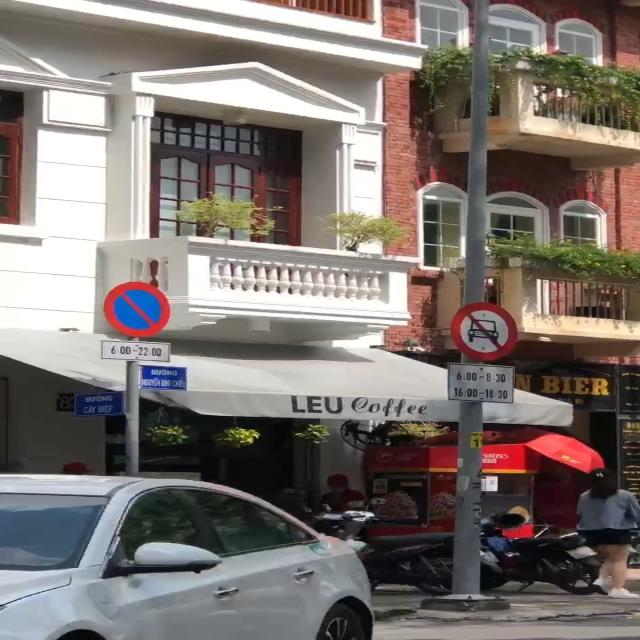Bien bao cam do xe: (102, 281, 173, 339)
Bien bao cam xe oto: (450, 302, 522, 362)
